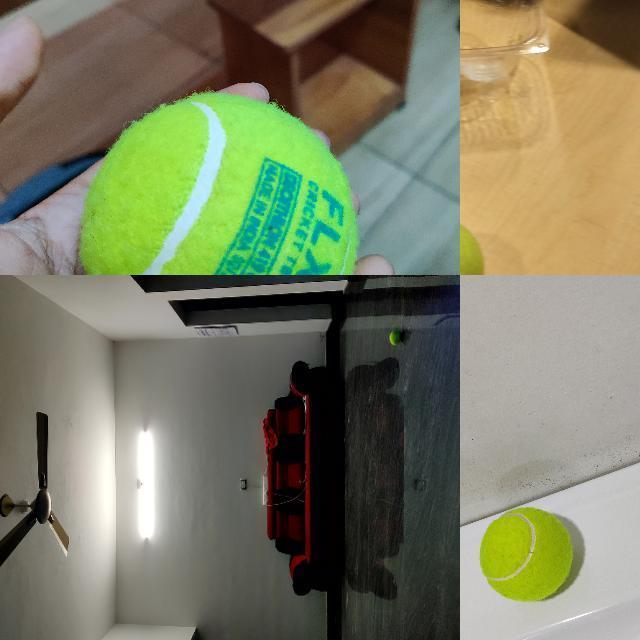tennis-ball: (79, 93, 357, 274), (478, 506, 574, 602), (388, 330, 401, 345)
